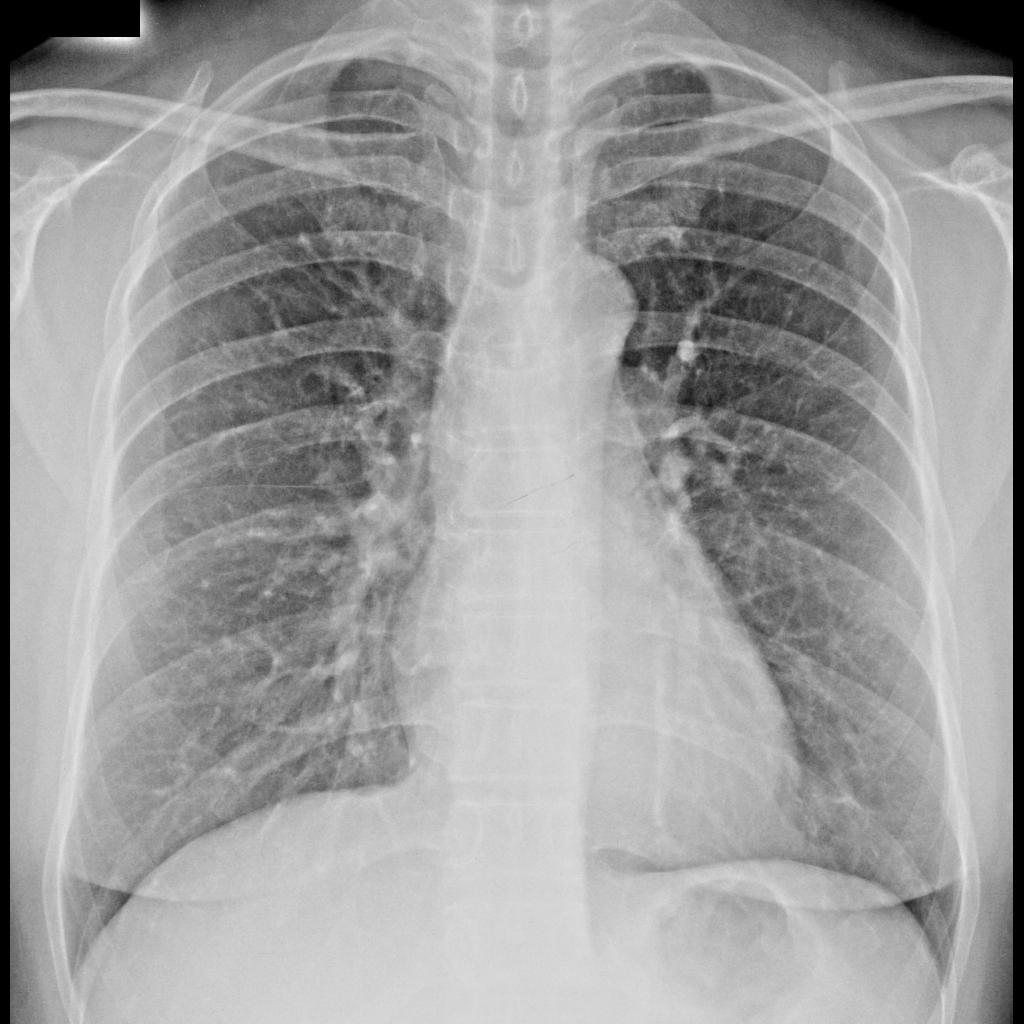Nodule: (795, 300, 825, 331)
